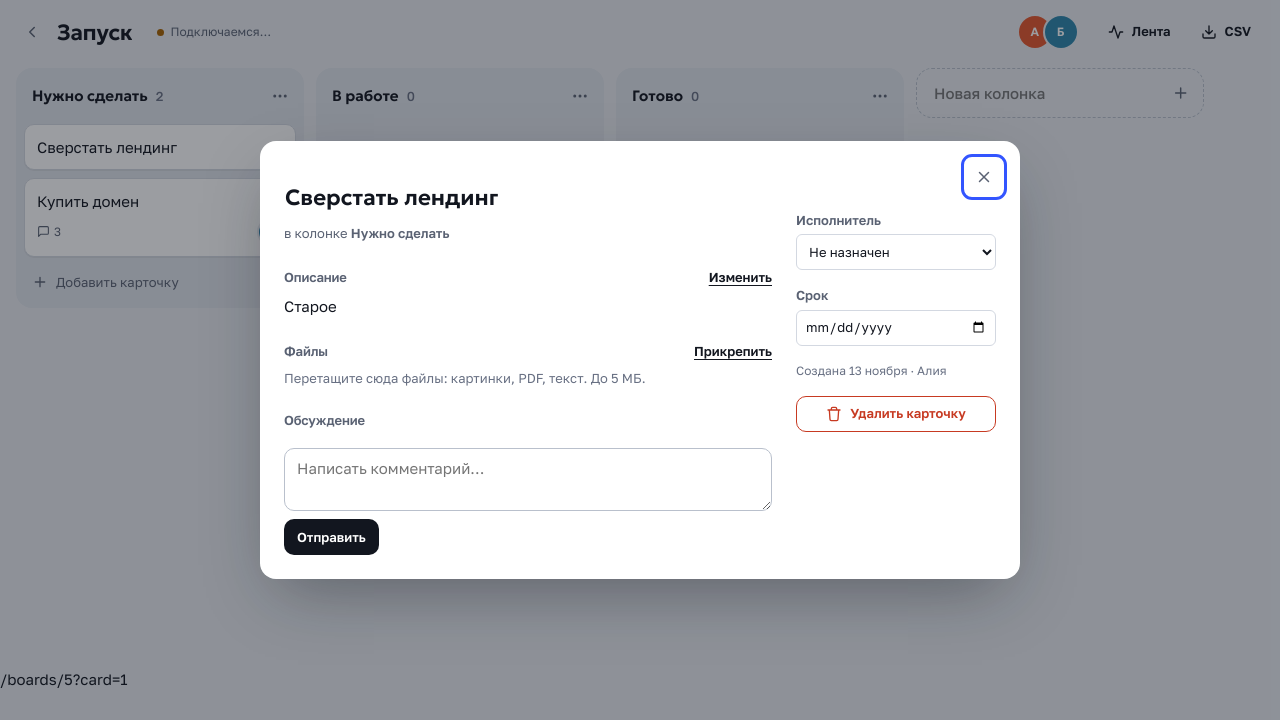
Test: карточка › конфликт правок: показывает сохранённую версию и даёт выбрать
Click the button "Изменить" at point(740, 277), box x1=709 y1=268 x2=772 y2=287
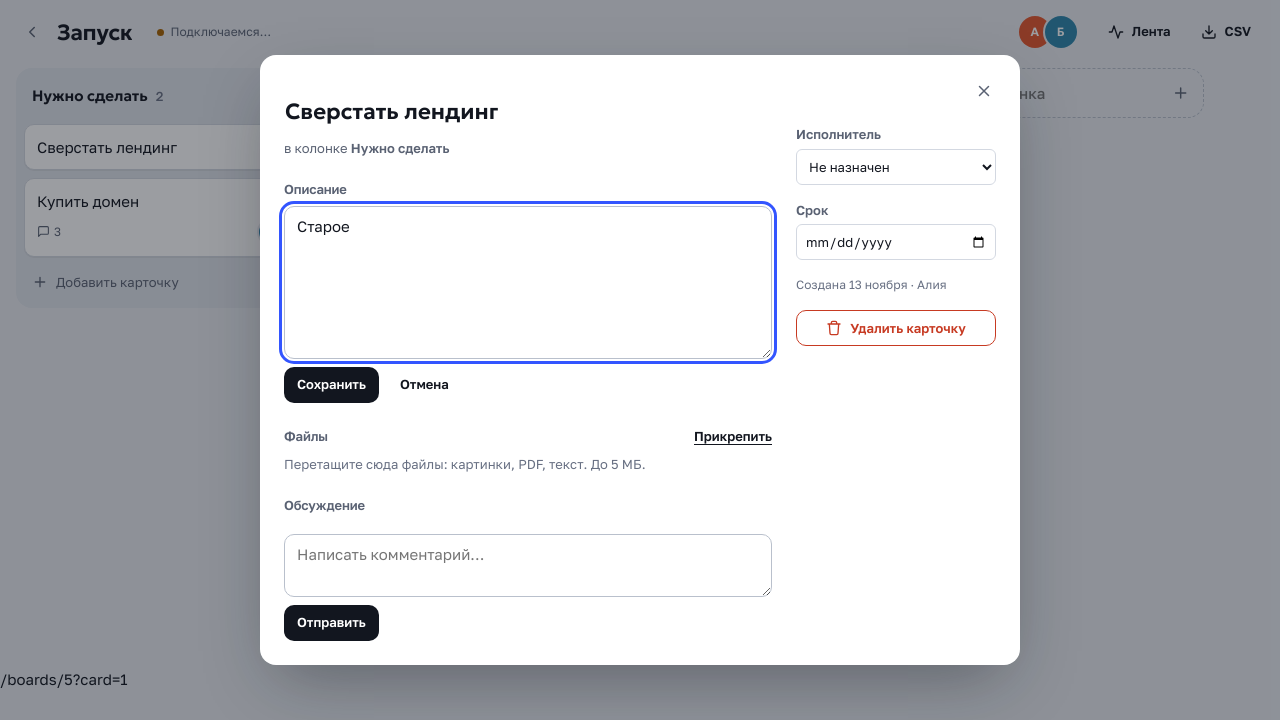
Replace the text in the text box named "Описание" with "Мой текст" at point(528, 282), box x1=284 y1=206 x2=772 y2=359
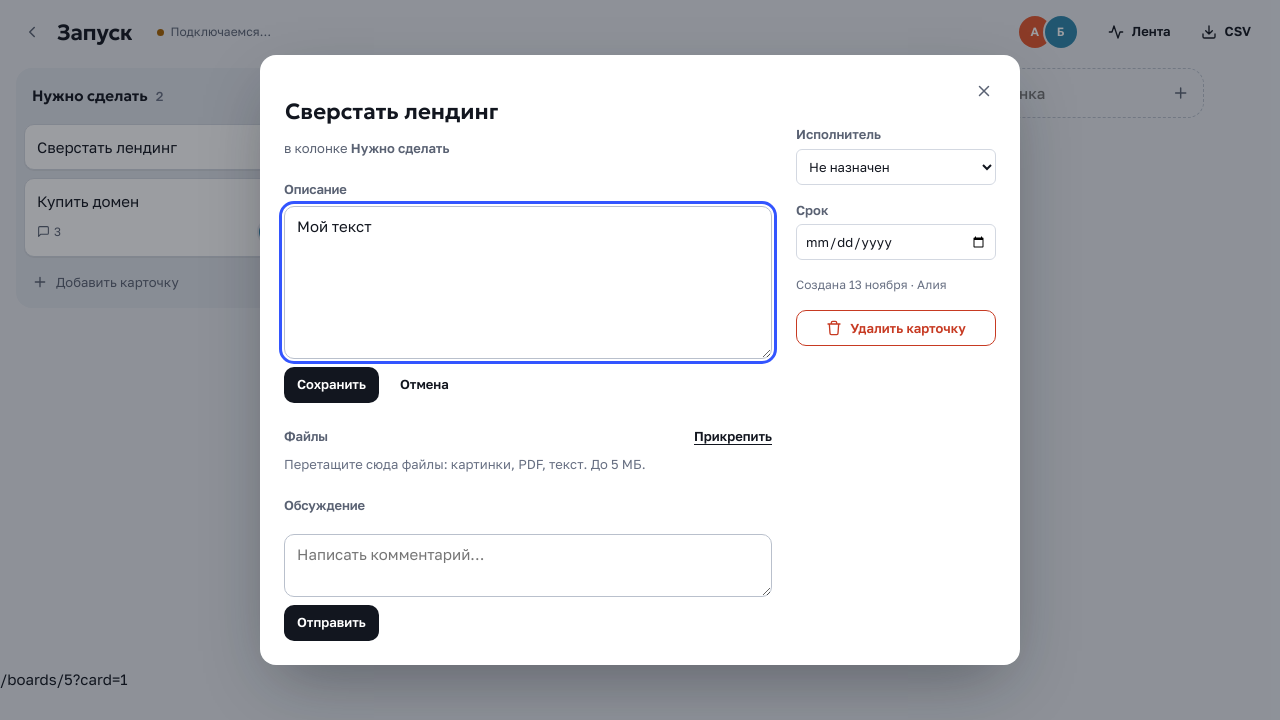
Click the button "Сохранить" at point(331, 385), box x1=284 y1=367 x2=379 y2=403
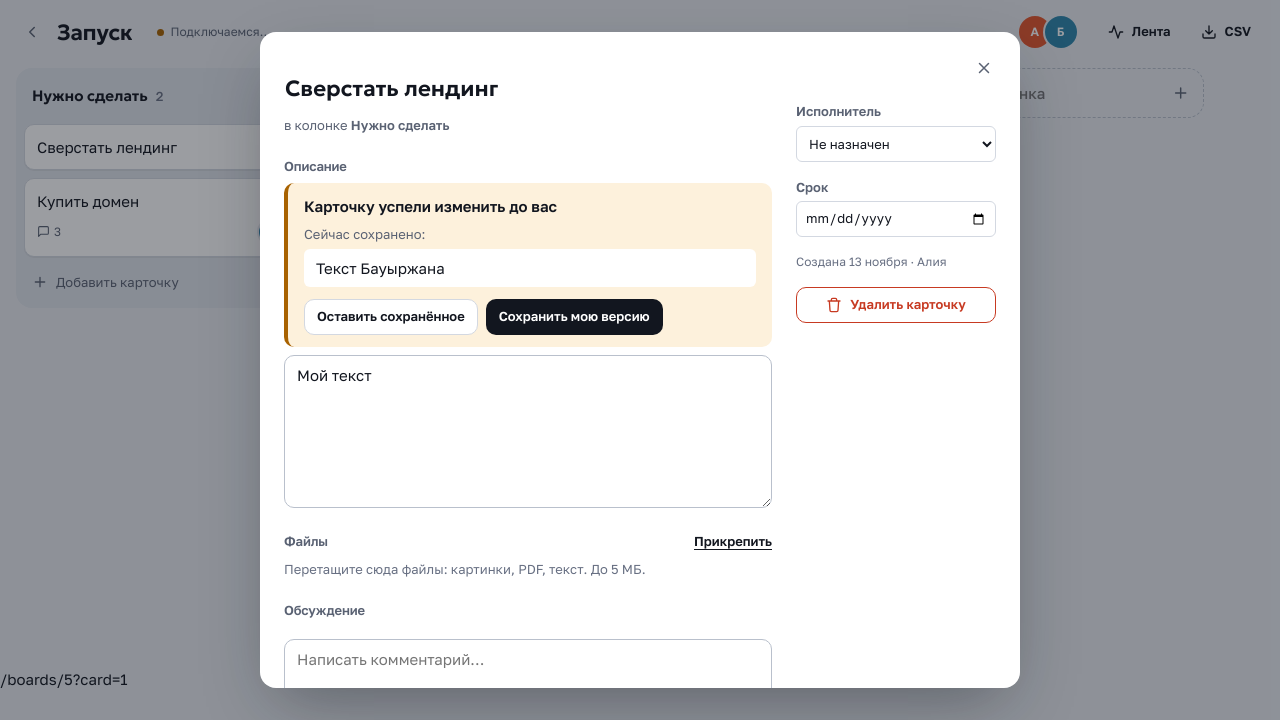
Check: the message shows "Карточку успели изменить до вас", box x1=304 y1=197 x2=557 y2=215
Check: the message shows "Текст Бауыржана", box x1=316 y1=259 x2=445 y2=277
Click the button "Сохранить мою версию" at point(574, 317), box x1=486 y1=299 x2=663 y2=335
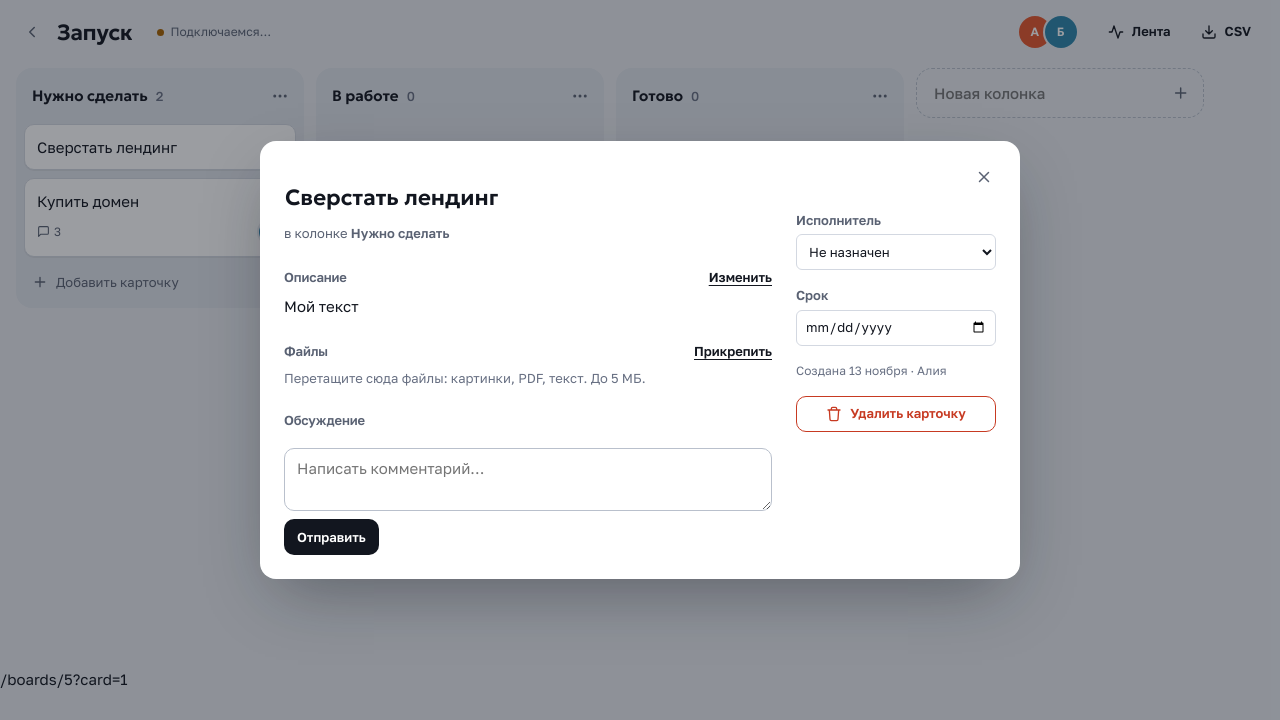
Check: the text "Мой текст" is shown, box x1=284 y1=297 x2=359 y2=315
